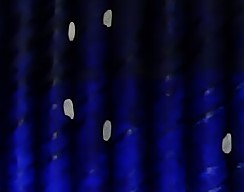broken_grain: (62, 96, 77, 123), (101, 8, 114, 30)
complete_grain: (101, 119, 113, 145), (221, 131, 233, 156), (67, 21, 77, 42)
